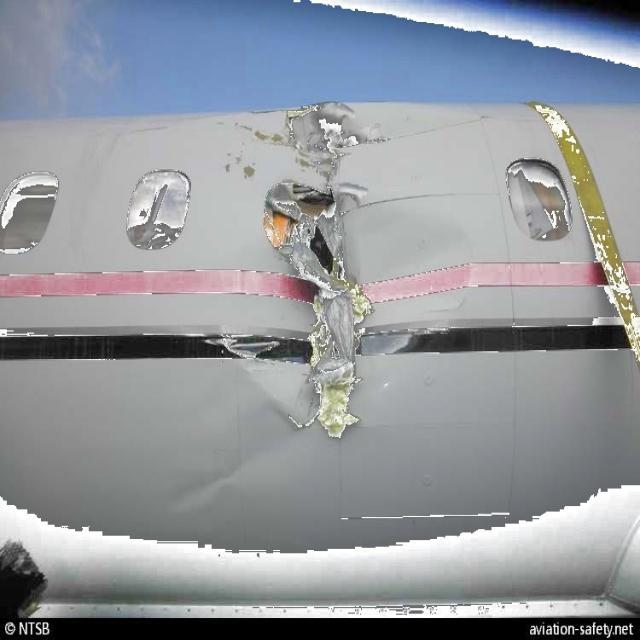crack: (271, 101, 392, 444)
dent: (359, 208, 482, 348), (167, 431, 319, 516)
